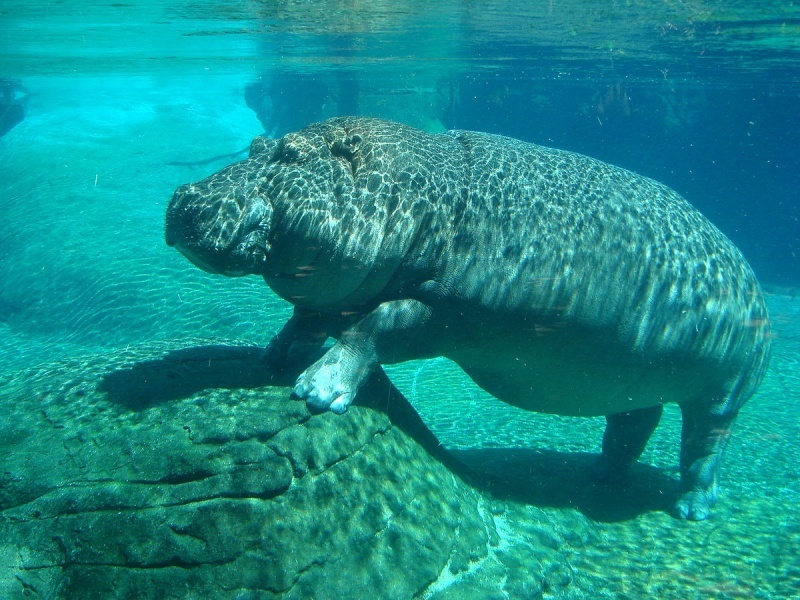hipopotamo: (159, 96, 789, 537)
